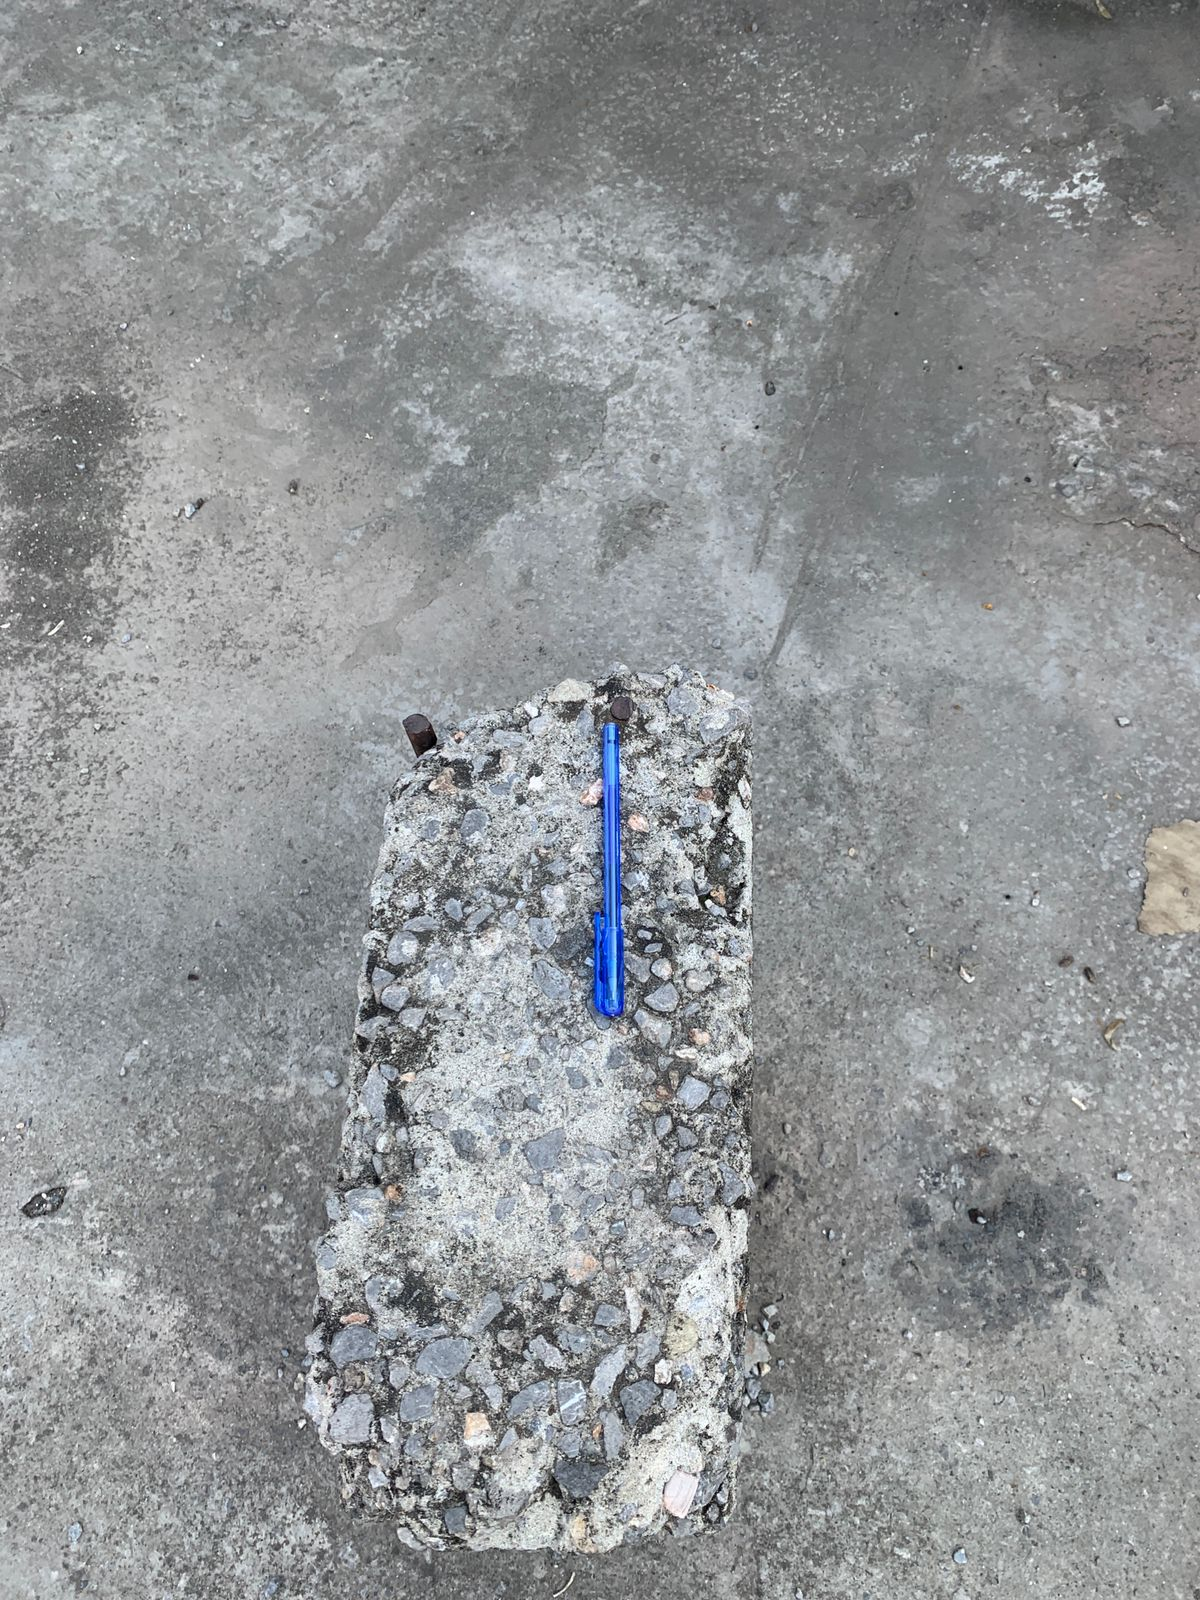pen: (518, 650, 711, 1050)
